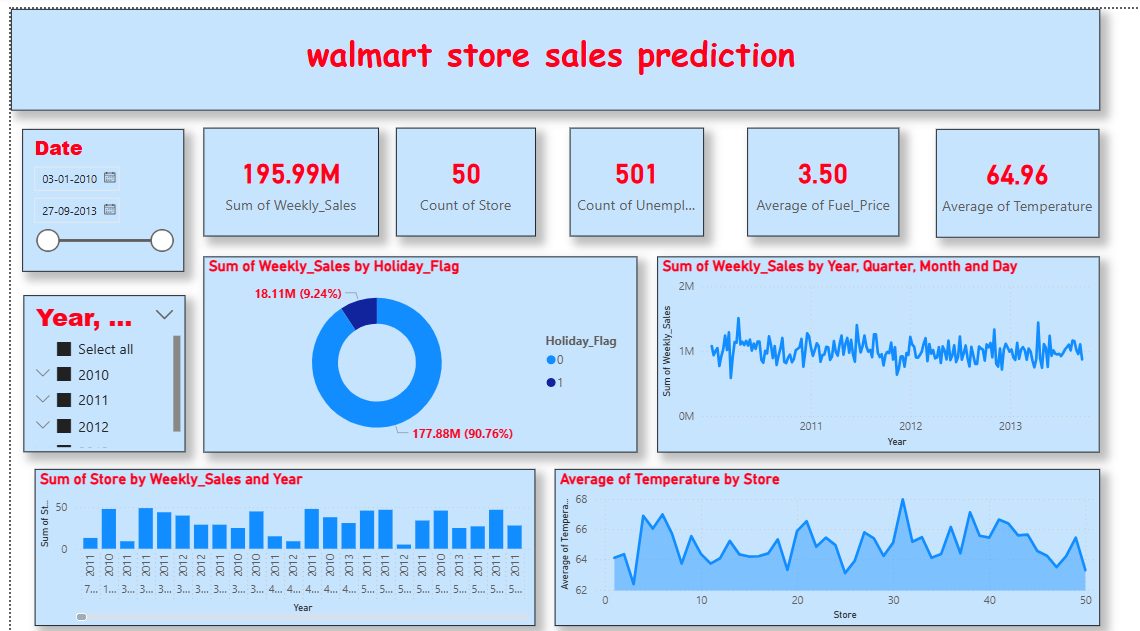

What the dashboard file says about the page in this screenshot:
{"tool":"powerbi","page":{"name":"Page 1","canvas":[1280,720],"ordinal":0},"visuals":[{"type":"textbox","box":[0,0,1227.1,114.3],"z":0},{"type":"card","fields":{"Values":["Sum(walmart_data.Weekly_Sales)"]},"box":[216.8,134.5,197.6,122.1],"z":1000},{"type":"card","fields":{"Values":["Count(walmart_data.Store)"]},"box":[433.6,134.5,157.8,122.1],"z":2000},{"type":"card","fields":{"Values":["Count(walmart_data.Unemployment)"]},"box":[629.8,134.5,150.9,122.1],"z":3000},{"type":"slicer","fields":{"Values":["walmart_data.Date"]},"box":[12.3,135.8,182.5,160.5],"z":4000},{"type":"card","fields":{"Values":["Avg(walmart_data.Fuel_Price)"]},"box":[830.2,134.5,171.5,122.1],"z":5000},{"type":"card","fields":{"Values":["Avg(walmart_data.Temperature)"]},"box":[1042.9,135.8,183.9,122.1],"z":6000},{"type":"slicer","fields":{"Values":["walmart_data.Date.Variation.Date Hierarchy.Year","walmart_data.Date.Variation.Date Hierarchy.Quarter","walmart_data.Date.Variation.Date Hierarchy.Month","walmart_data.Date.Variation.Date Hierarchy.Day"]},"box":[13.7,322.5,182.5,177],"z":7000},{"type":"donutChart","fields":{"Category":["walmart_data.Holiday_Flag"],"Y":["Sum(walmart_data.Weekly_Sales)"]},"box":[216.8,278.6,488.5,220.9],"z":8000},{"type":"lineChart","fields":{"Y":["Sum(walmart_data.Weekly_Sales)"],"Category":["walmart_data.Date.Variation.Date Hierarchy.Year","walmart_data.Date.Variation.Date Hierarchy.Quarter","walmart_data.Date.Variation.Date Hierarchy.Month","walmart_data.Date.Variation.Date Hierarchy.Day"]},"box":[728.6,278.6,498.1,220.9],"z":9000},{"type":"clusteredColumnChart","fields":{"Category":["walmart_data.Weekly_Sales","walmart_data.Date.Variation.Date Hierarchy.Year"],"Y":["Sum(walmart_data.Store)"]},"box":[27.4,518.7,564,177],"z":10000},{"type":"stackedAreaChart","fields":{"Category":["walmart_data.Store"],"Y":["Avg(walmart_data.Temperature)"]},"box":[612.9,518.6,614.3,177.1],"z":11000}]}

Visuals, with their boxes in screenshot pixels (x1, y1, x2, y2), scaled from the page's 1280x720 canvas onto the 1140x631 screenshot:
textbox: bbox=(0, 0, 1093, 100)
card - Sum(walmart_data.Weekly_Sales): bbox=(193, 118, 369, 225)
card - Count(walmart_data.Store): bbox=(386, 118, 527, 225)
card - Count(walmart_data.Unemployment): bbox=(561, 118, 695, 225)
slicer - walmart_data.Date: bbox=(11, 119, 173, 260)
card - Avg(walmart_data.Fuel_Price): bbox=(739, 118, 892, 225)
card - Avg(walmart_data.Temperature): bbox=(929, 119, 1093, 226)
slicer - walmart_data.Date.Variation.Date Hierarchy.Year x walmart_data.Date.Variation.Date Hierarchy.Quarter: bbox=(12, 283, 175, 438)
donutChart - walmart_data.Holiday_Flag x Sum(walmart_data.Weekly_Sales): bbox=(193, 244, 628, 438)
lineChart - Sum(walmart_data.Weekly_Sales) x walmart_data.Date.Variation.Date Hierarchy.Year: bbox=(649, 244, 1093, 438)
clusteredColumnChart - walmart_data.Weekly_Sales x walmart_data.Date.Variation.Date Hierarchy.Year: bbox=(24, 455, 527, 610)
stackedAreaChart - walmart_data.Store x Avg(walmart_data.Temperature): bbox=(546, 454, 1093, 610)
